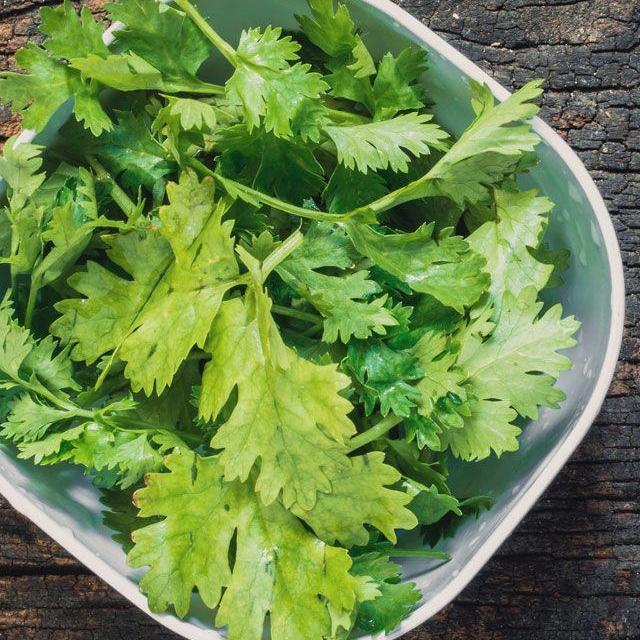cilantro: (0, 50, 525, 640)
